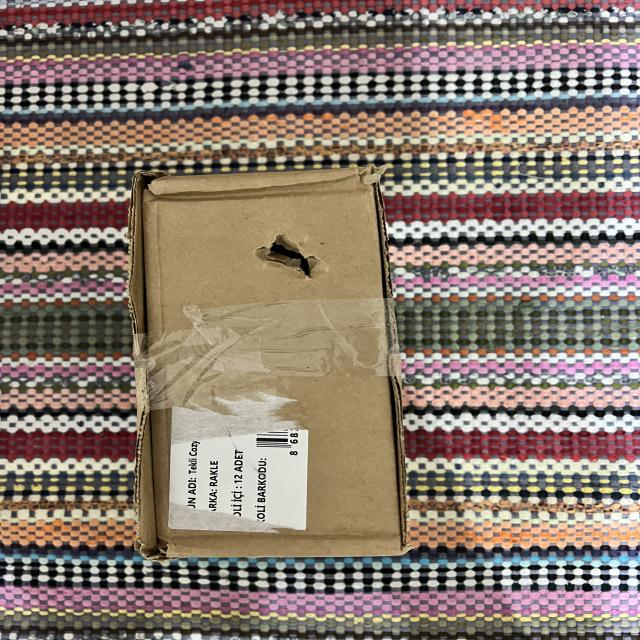damaged: (116, 159, 428, 564), (160, 175, 364, 208), (256, 225, 327, 285)
